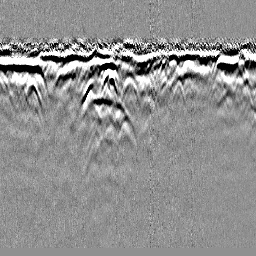cavity: (118, 72, 141, 105)
